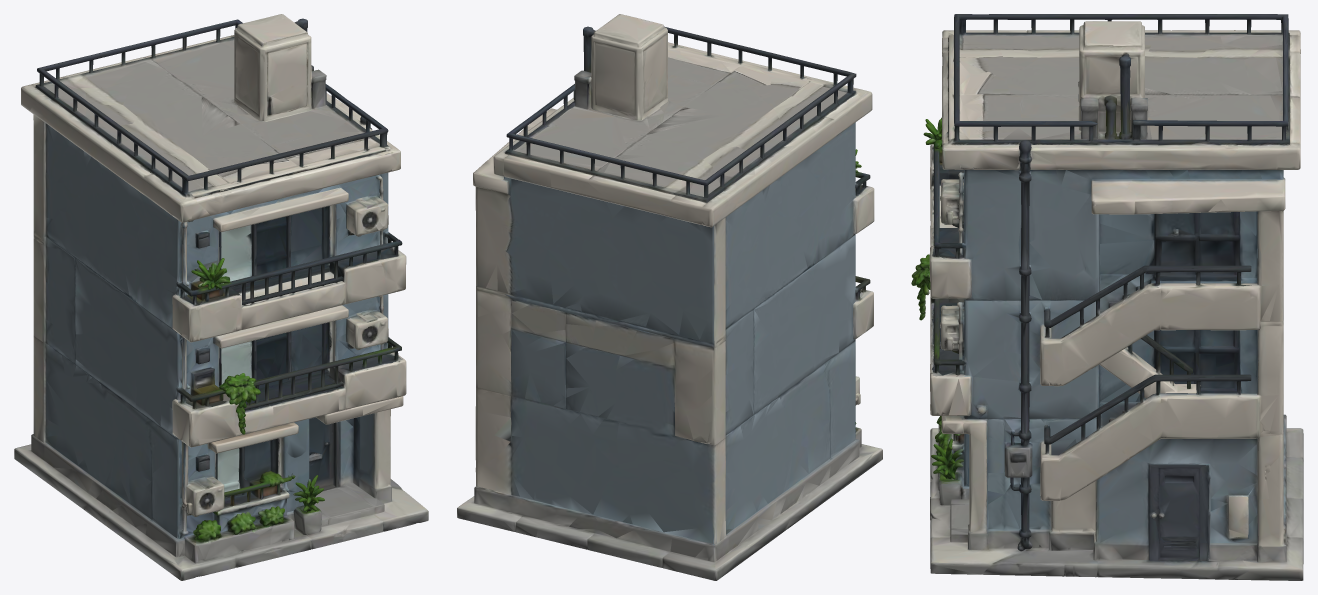
Rendered from building26.glb.
3 renders of one model, left to right at view 1: azimuth 30°, elevation 25°; view 2: azimuth 150°, elevation 25°; view 3: azimuth 270°, elevation 25°, orthographic. The views are drawn at different scales.
Parts seen in each view (by area): view 1: tripo_node_2ea07cf4-c492-4228-93e1-54d26bd24877; view 2: tripo_node_2ea07cf4-c492-4228-93e1-54d26bd24877; view 3: tripo_node_2ea07cf4-c492-4228-93e1-54d26bd24877.
Part boxes in pixels (x1=…): tripo_node_2ea07cf4-c492-4228-93e1-54d26bd24877: x1=14, y1=14, x2=428, y2=580; tripo_node_2ea07cf4-c492-4228-93e1-54d26bd24877: x1=457, y1=14, x2=882, y2=580; tripo_node_2ea07cf4-c492-4228-93e1-54d26bd24877: x1=911, y1=14, x2=1303, y2=580.
Size of the model in its own units: 0.5956 by 0.9797 by 0.6957.
1 material, 1 textured.
